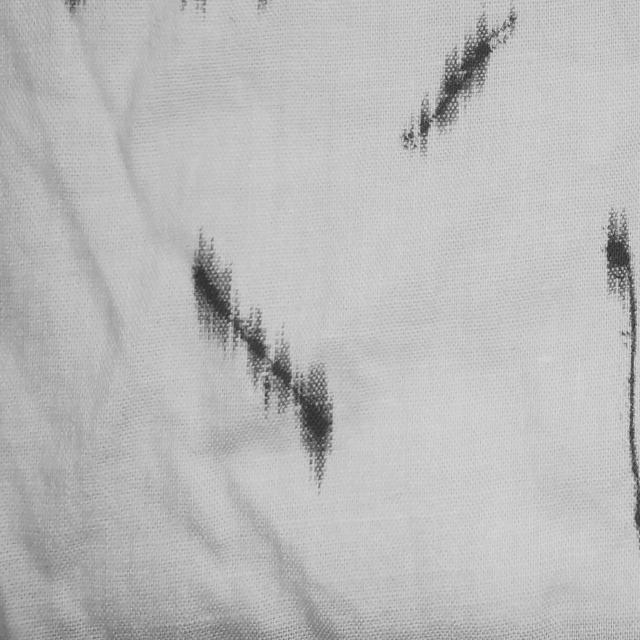Hole: (152, 202, 376, 500), (357, 0, 521, 170), (572, 188, 640, 540), (56, 0, 290, 27)
